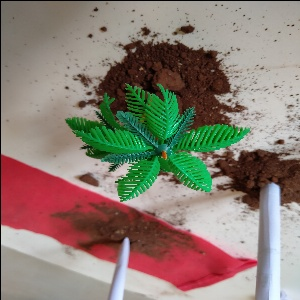plant: (61, 73, 230, 196)
